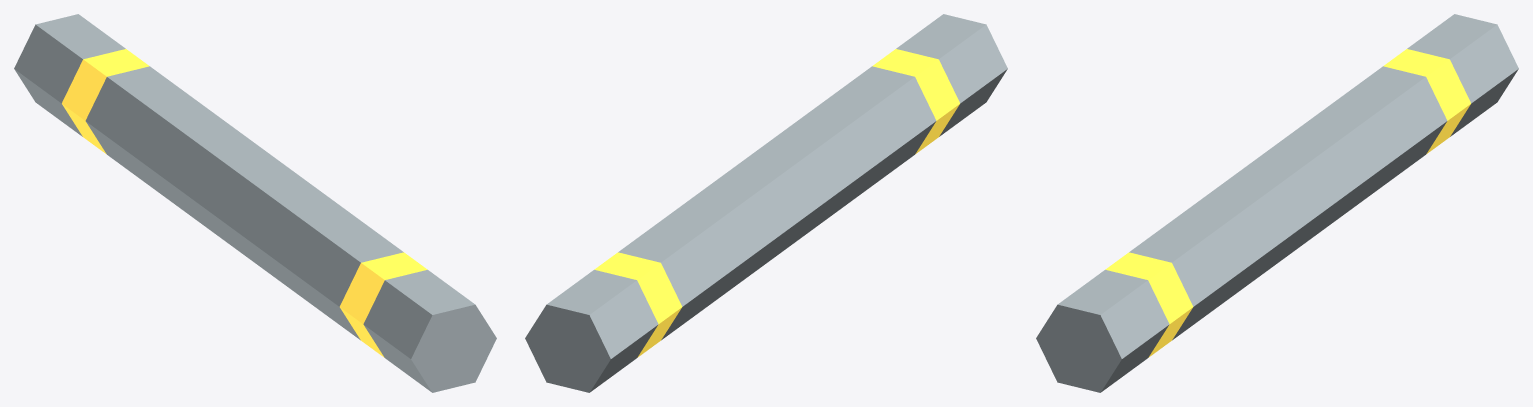
The model's file is SM_HexagonalBar_v0.fbx.
3 views of the same model, side by side, from view 1: azimuth 30°, elevation 25°; view 2: azimuth 150°, elevation 25°; view 3: azimuth 330°, elevation 25° (orthographic).
Parts seen in each view (by area): view 1: SM_HexagonalBar_v0; view 2: SM_HexagonalBar_v0; view 3: SM_HexagonalBar_v0.
Part boxes in pixels (x1,y1,x2,y2): SM_HexagonalBar_v0: [14, 14, 496, 392]; SM_HexagonalBar_v0: [525, 14, 1007, 392]; SM_HexagonalBar_v0: [1036, 14, 1518, 392].
Size of the model in its own units: 0.125 by 0.1083 by 1.
